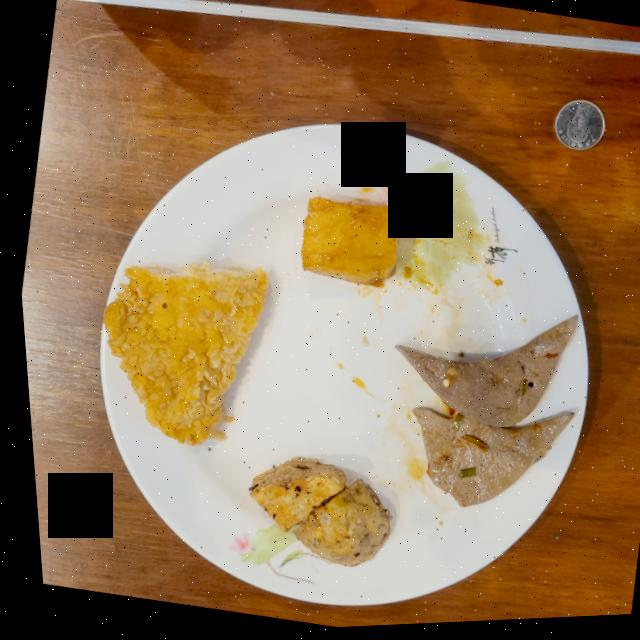coin: (551, 105, 602, 156)
creamy tofu: (296, 199, 395, 290)
fried chicken cutlet: (97, 264, 263, 447)
fried potato: (241, 460, 382, 569)
pig liver: (389, 321, 572, 511)
